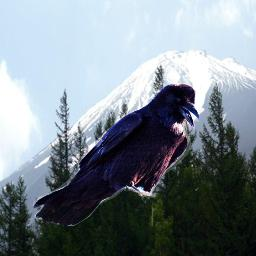Crow: (33, 83, 199, 226)
